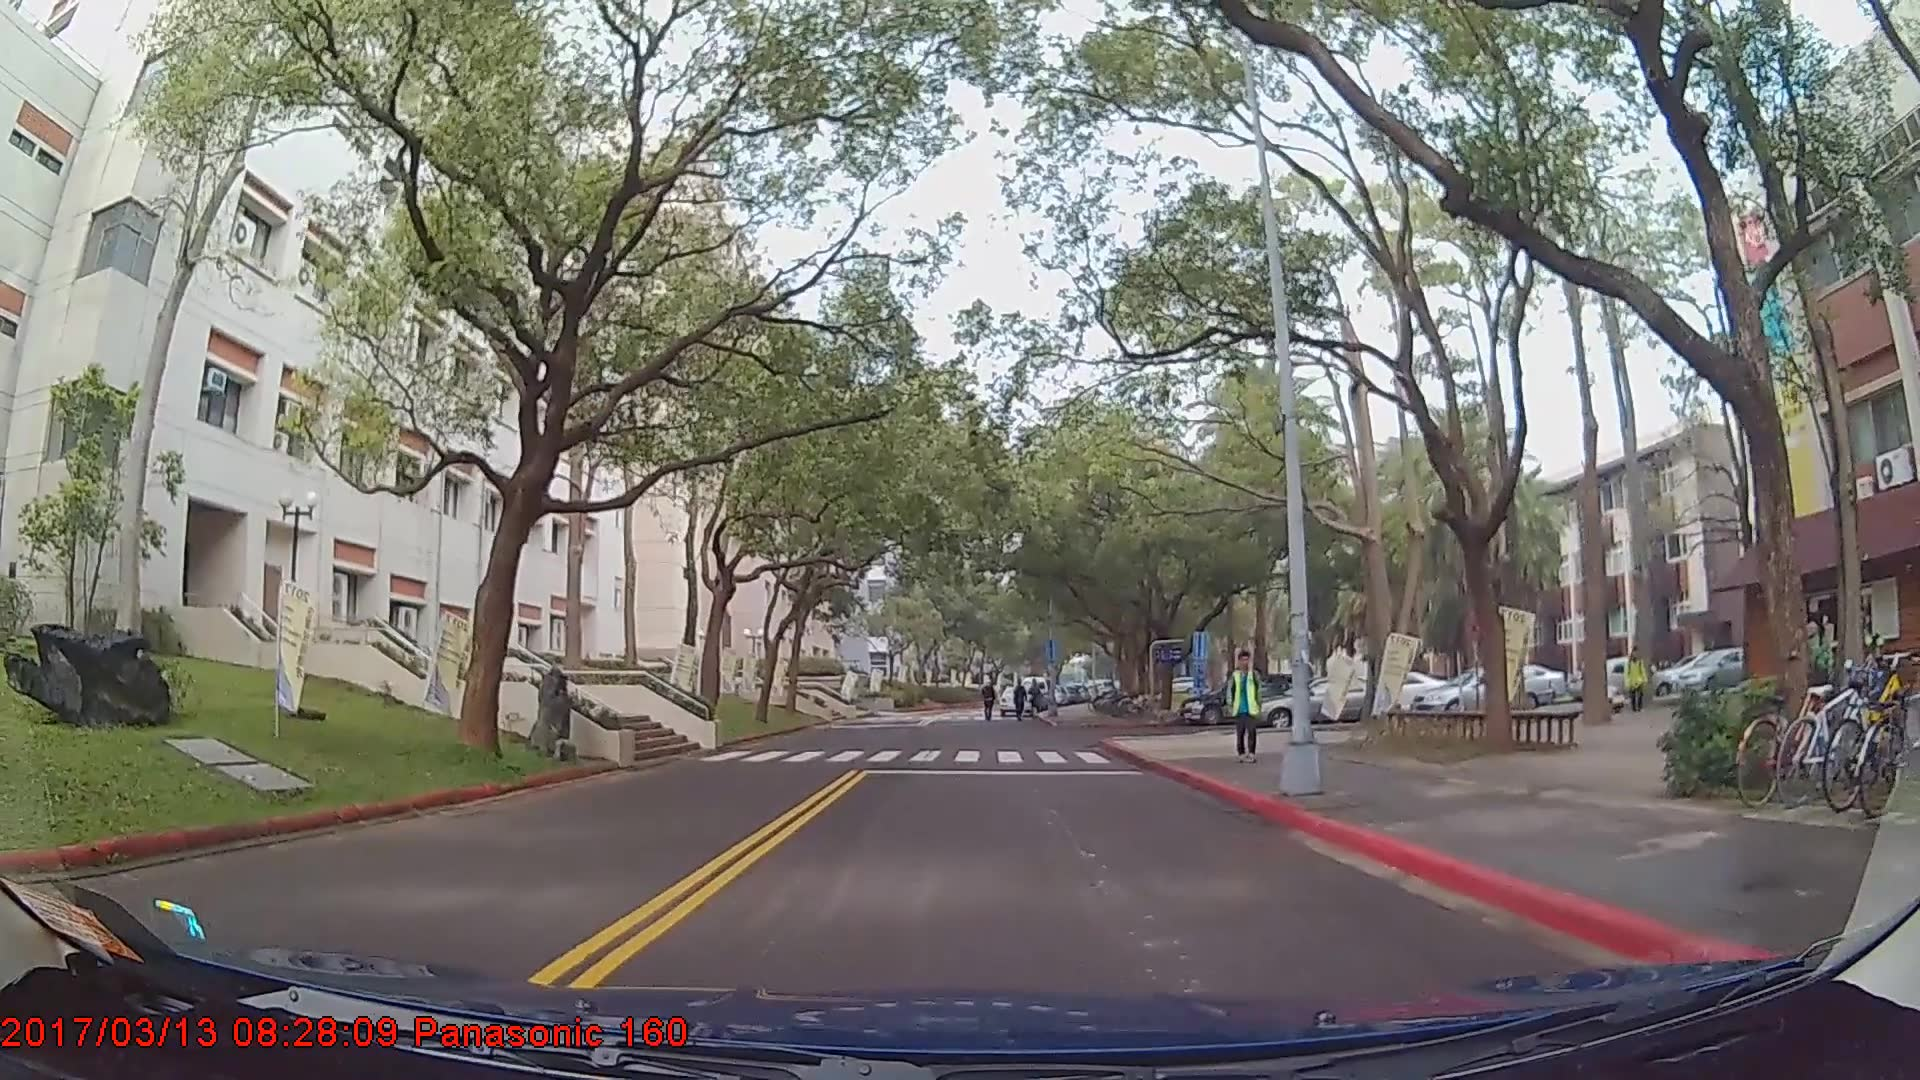pedestrian: (1227, 646, 1266, 754), (1624, 643, 1647, 708), (1012, 677, 1033, 722)
vehicle: (1409, 659, 1553, 717), (1251, 671, 1394, 725), (1676, 646, 1765, 691)
